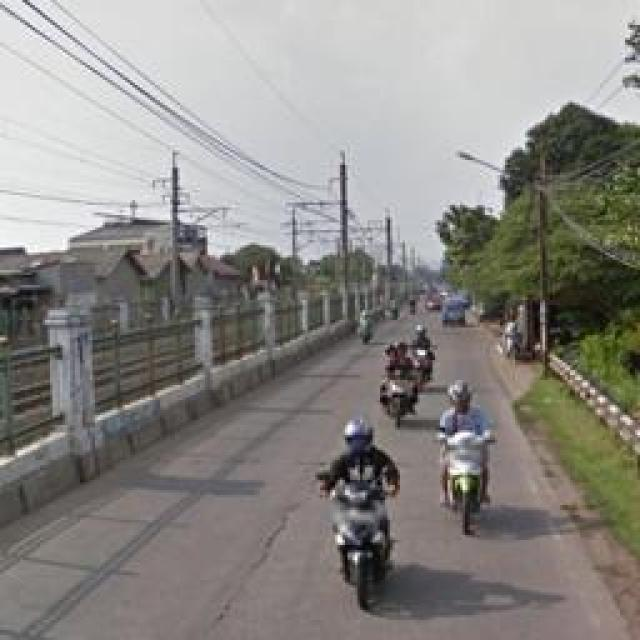motorbike: (316, 418, 400, 610), (439, 379, 494, 536), (380, 343, 421, 430), (411, 328, 435, 385)
